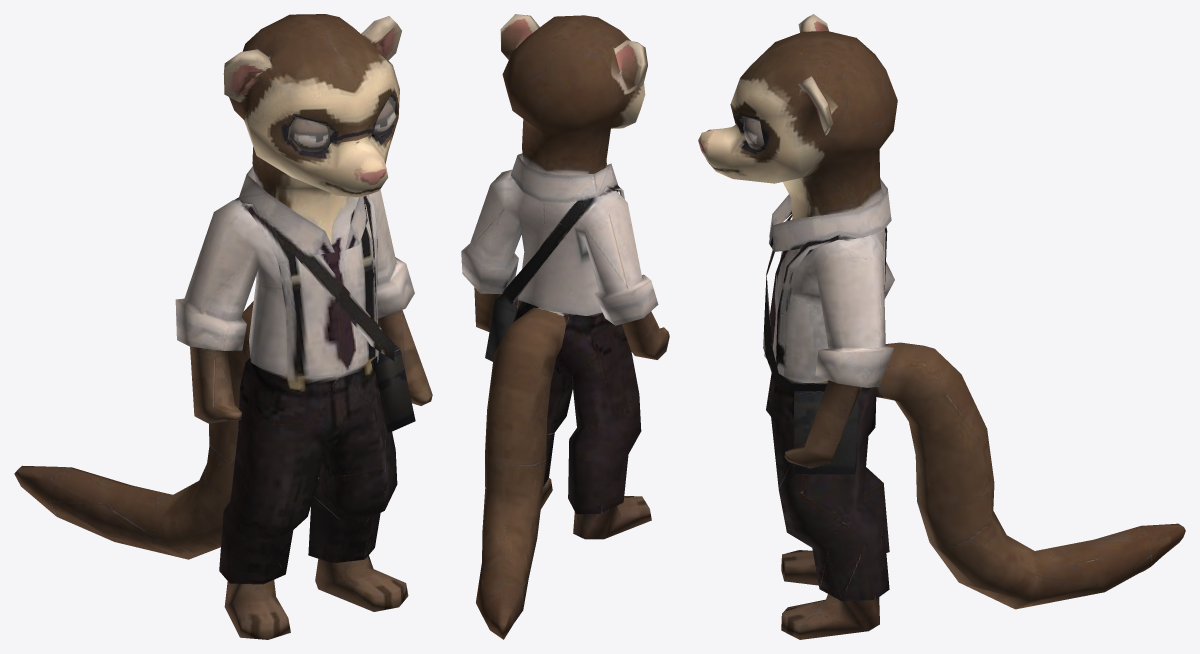
Rendered from coworker_weasel.glb.
3 views of the same model, side by side, from view 1: azimuth 30°, elevation 25°; view 2: azimuth 150°, elevation 25°; view 3: azimuth 270°, elevation 25° (orthographic). The views are drawn at different scales.
Bounding box in the file's own units: 0.3846 × 1 × 0.7596.
1 material, 1 textured.
